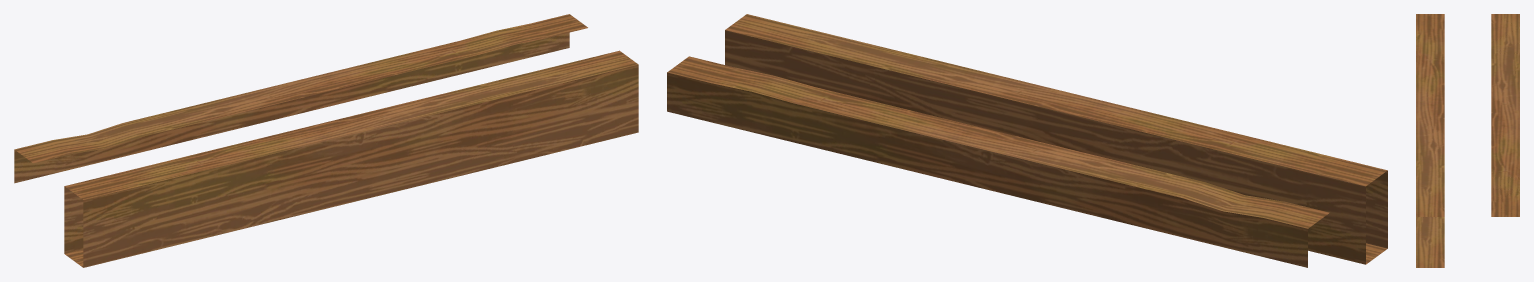
File: Wall_BottomCover.gltf
3 renders of one model, left to right at view 1: azimuth 30°, elevation 25°; view 2: azimuth 150°, elevation 25°; view 3: azimuth 270°, elevation 25°, orthographic. The views are drawn at different scales.
Visible parts, largest first — view 1: Wall_BottomCover; view 2: Wall_BottomCover; view 3: Wall_BottomCover.
Part boxes in pixels (bbox=[...]): Wall_BottomCover: bbox=[14, 14, 638, 267]; Wall_BottomCover: bbox=[667, 14, 1387, 267]; Wall_BottomCover: bbox=[1416, 14, 1519, 267].
Bounding box in the file's own units: 2 × 0.2375 × 0.4316.
1 material, 1 textured.
